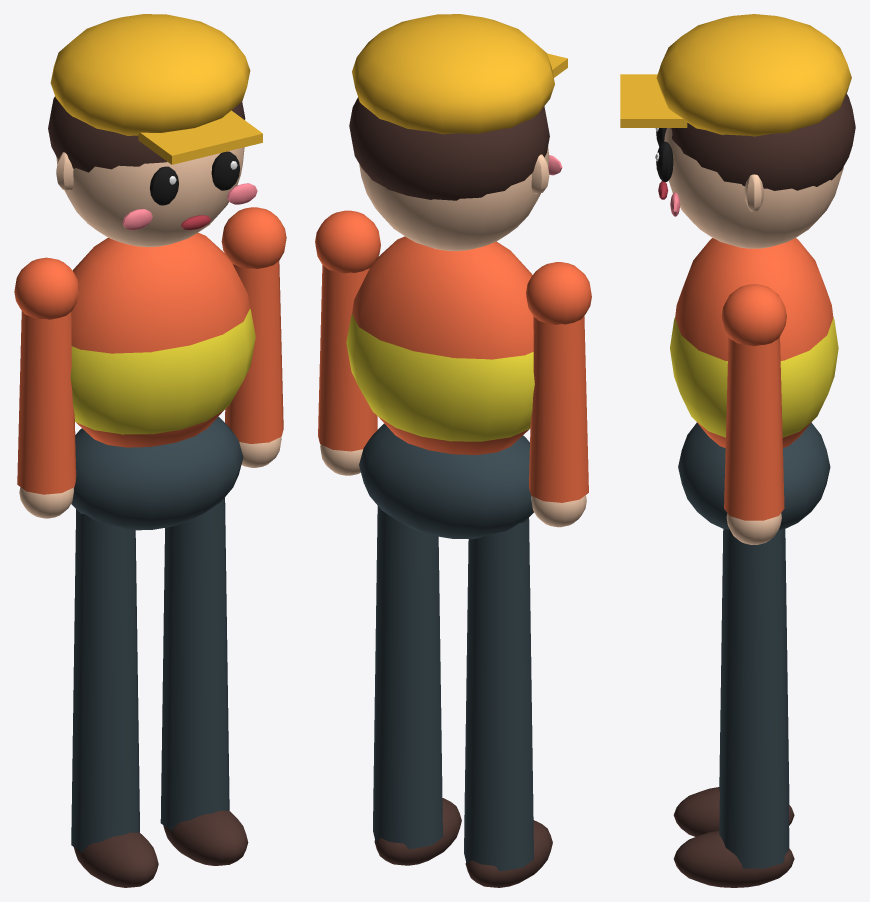
The model's file is roadevents_worker.glb.
3 views of the same model, side by side, from view 1: azimuth 30°, elevation 25°; view 2: azimuth 150°, elevation 25°; view 3: azimuth 270°, elevation 25° (orthographic).
Parts seen in each view (by area): view 1: Body.003, Leg_R.003, Leg_L.003, Arm_R, Arm_L; view 2: Body.003, Leg_R.003, Leg_L.003, Arm_R, Arm_L; view 3: Body.003, Leg_L.003, Arm_L, Leg_R.003.
Boxes of the visible parts, <box> form: Body.003: <box>48,14,262,530</box>; Leg_R.003: <box>71,509,158,887</box>; Leg_L.003: <box>160,497,248,865</box>; Arm_R: <box>14,257,79,518</box>; Arm_L: <box>221,207,286,467</box>; Body.003: <box>346,14,567,539</box>; Leg_R.003: <box>464,518,552,887</box>; Leg_L.003: <box>373,506,461,865</box>; Arm_R: <box>526,262,591,527</box>; Arm_L: <box>315,210,380,475</box>; Body.003: <box>620,14,855,529</box>; Leg_L.003: <box>673,528,794,887</box>; Arm_L: <box>721,284,786,544</box>; Leg_R.003: <box>673,529,794,836</box>.
Size of the model in its own units: 0.6052 by 1.82 by 0.4674.
